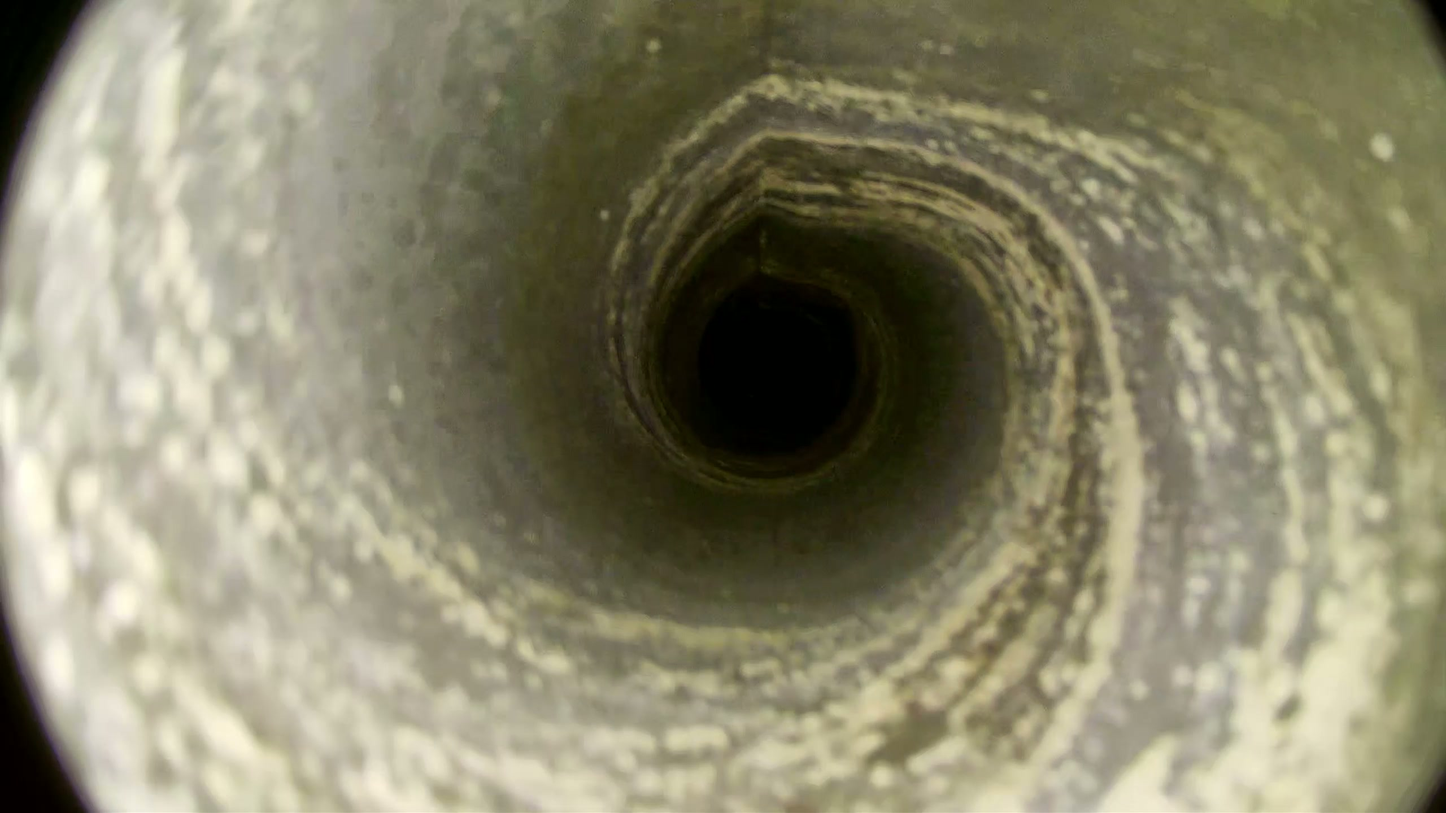hole: (699, 293, 839, 433)
